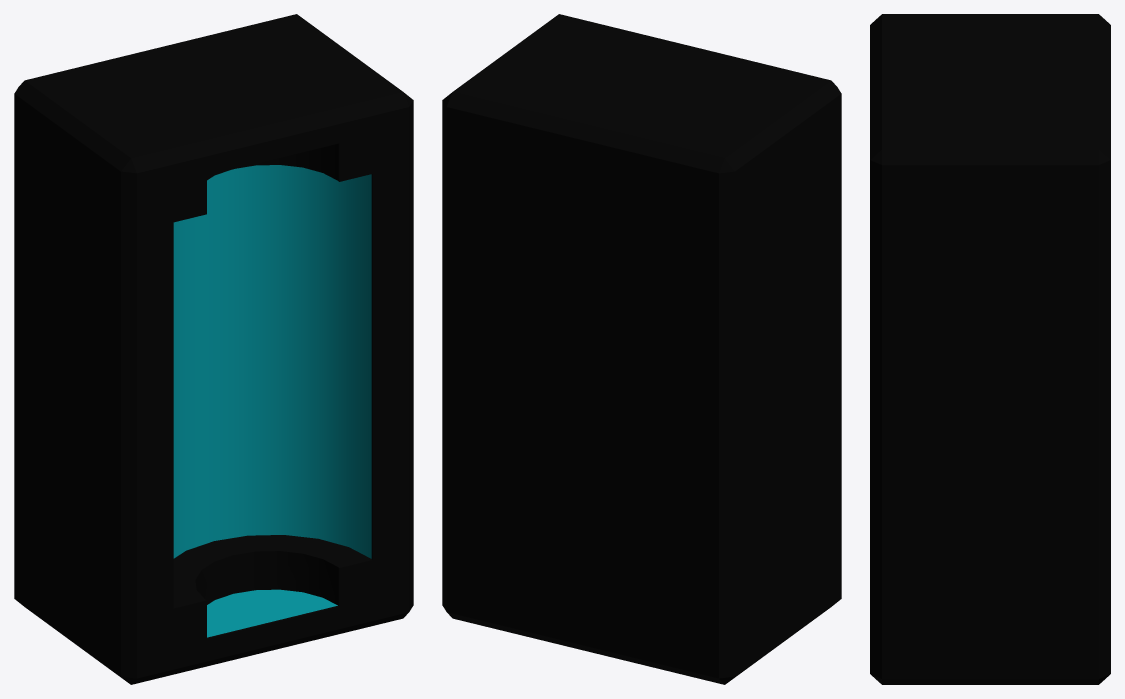
Rendered from Fuel Cell Slot Basic Final.fbx.
3 views of the same model, side by side, from view 1: azimuth 30°, elevation 25°; view 2: azimuth 150°, elevation 25°; view 3: azimuth 270°, elevation 25° (orthographic).
Visible parts, largest first — view 1: pCube2; view 2: pCube2; view 3: pCube2.
Part boxes in pixels (bbox=[...]): pCube2: bbox=[14, 14, 413, 684]; pCube2: bbox=[442, 14, 841, 684]; pCube2: bbox=[870, 14, 1110, 684].
Bounding box in the file's own units: 0.3469 × 0.5962 × 0.2428.
